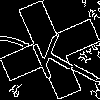K: (25, 25, 74, 80)
